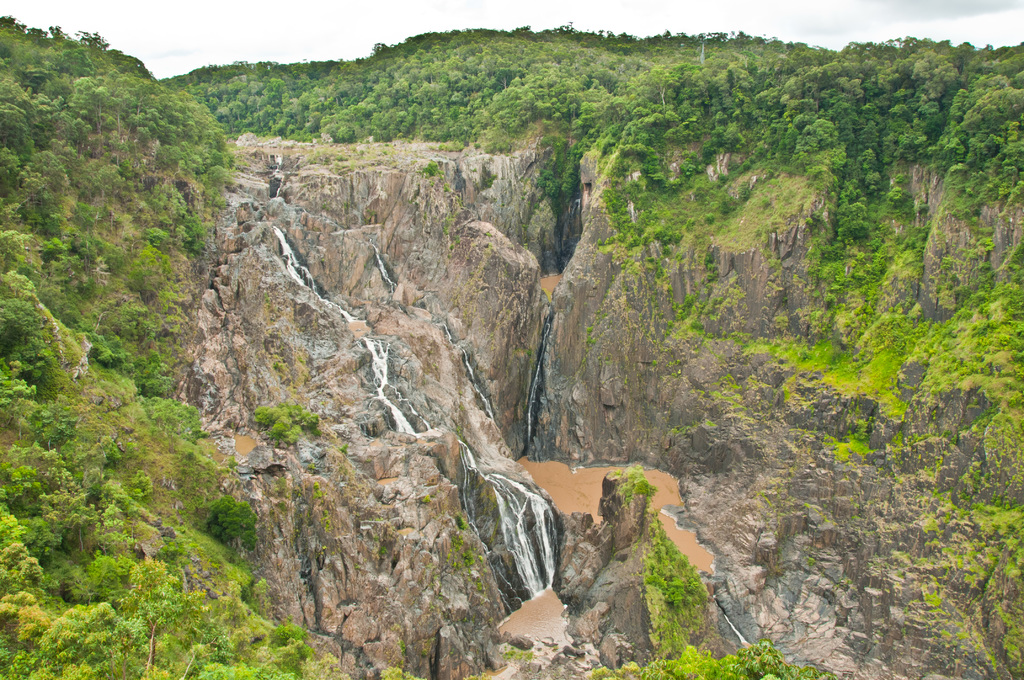Tree: (0, 15, 1024, 679)
